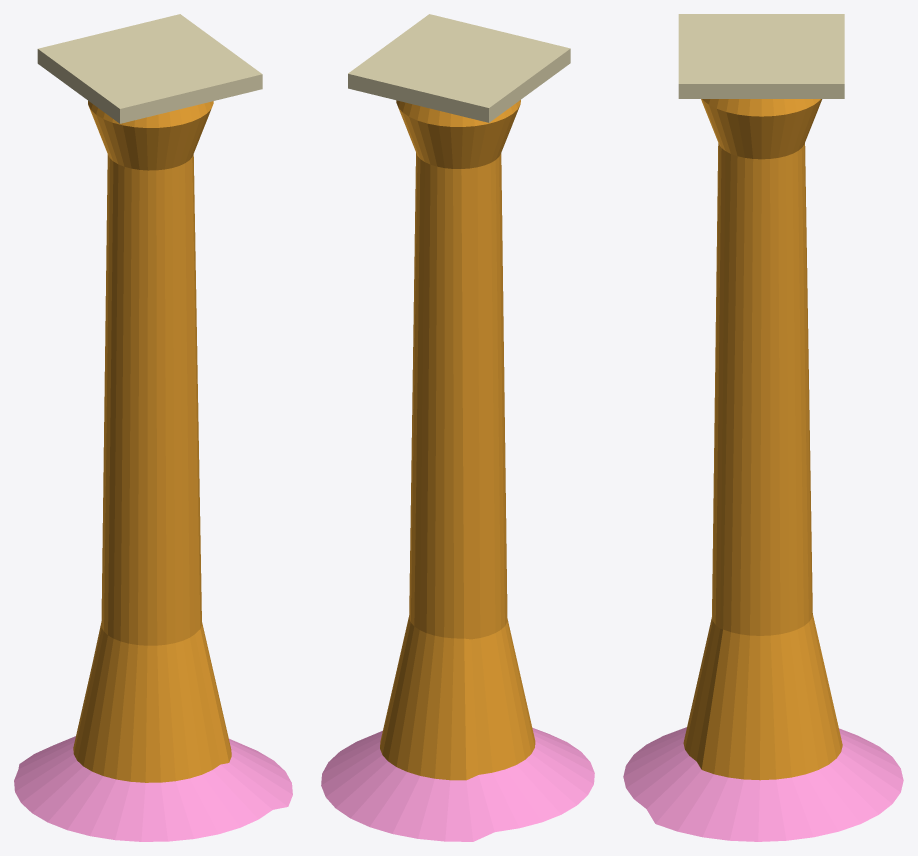
The model's file is columnaredonda.fbx.
3 renders of one model, left to right at view 1: azimuth 30°, elevation 25°; view 2: azimuth 150°, elevation 25°; view 3: azimuth 270°, elevation 25°, orthographic.
Parts seen in each view (by area): view 1: Cube.017; view 2: Cube.017; view 3: Cube.017.
Part boxes in pixels (x1,y1,x2,y2): Cube.017: (14,14,292,841); Cube.017: (321,14,594,841); Cube.017: (623,14,903,841).
Bounding box in the file's own units: 337 × 975 × 338.
2 materials, 2 textured.
